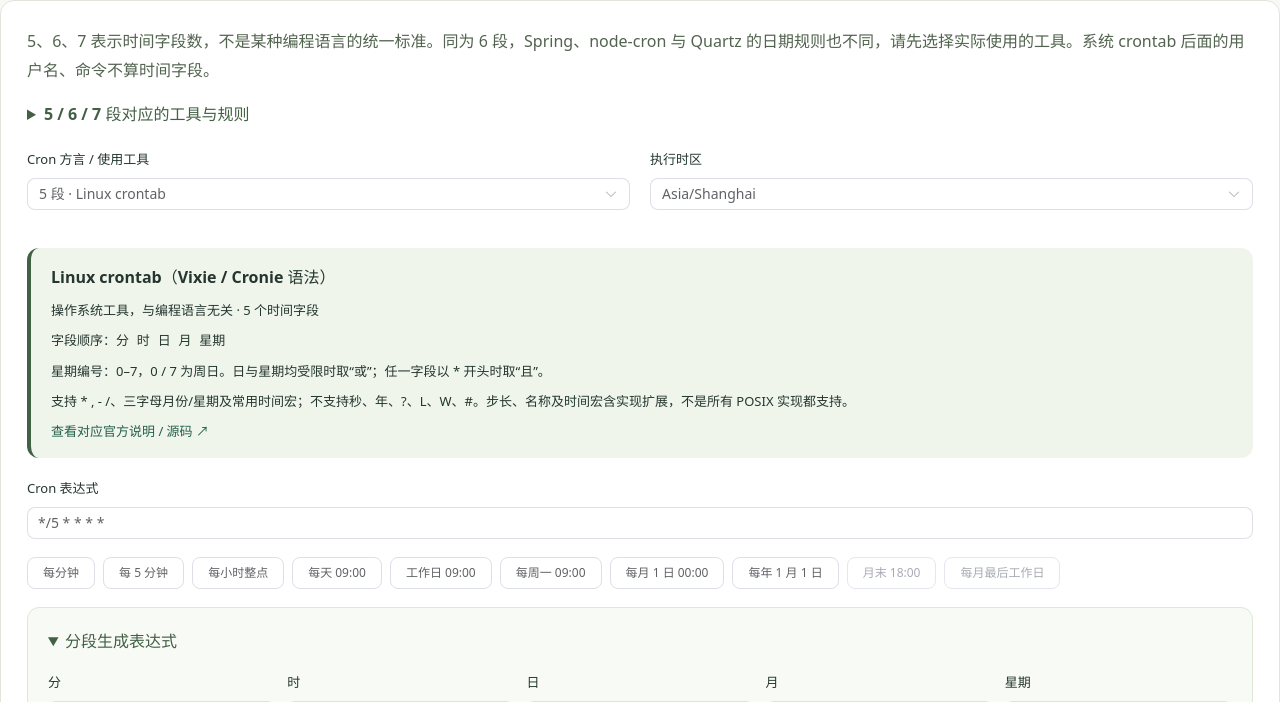
Test: 非法输入不启动 Worker，计算超时终止并反馈，常用表达式与生成器同步
Replace the text in the field named "Cron 表达式" with "中文" at (640, 523), box x1=38 y1=508 x2=1242 y2=538
(page scrolled)
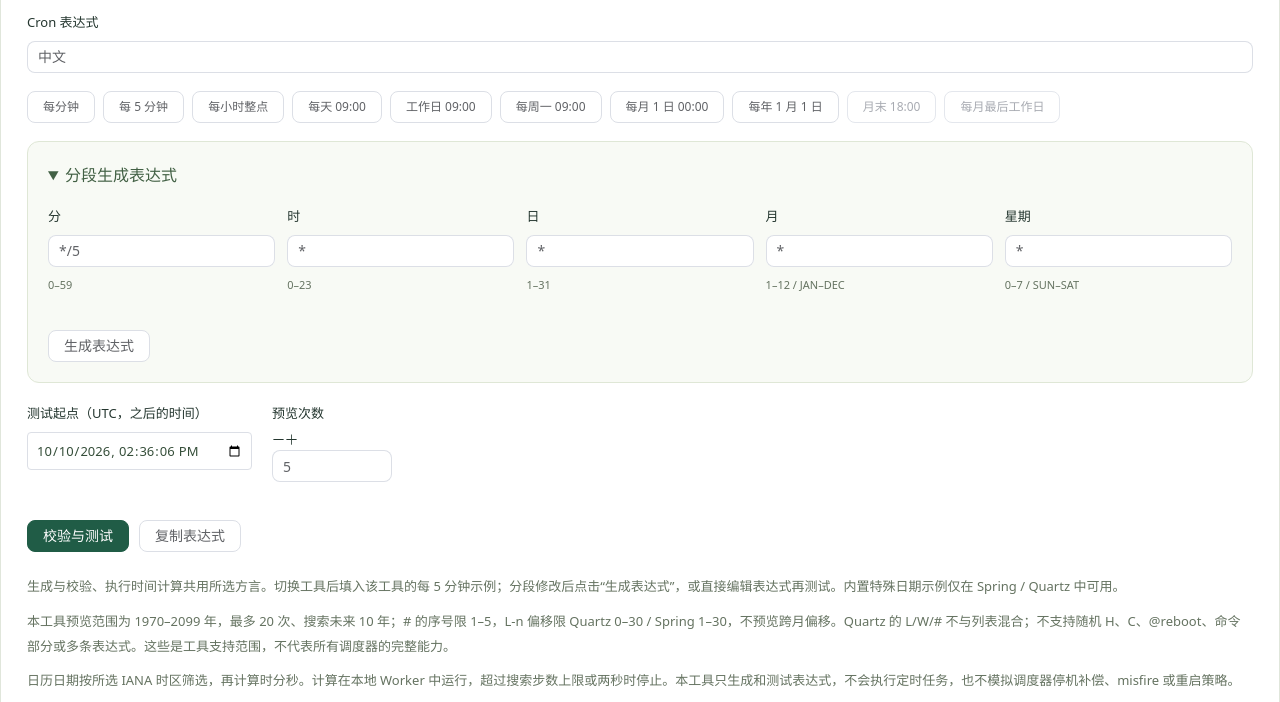
Click the button "校验与测试" at (78, 536), box x1=27 y1=520 x2=129 y2=552
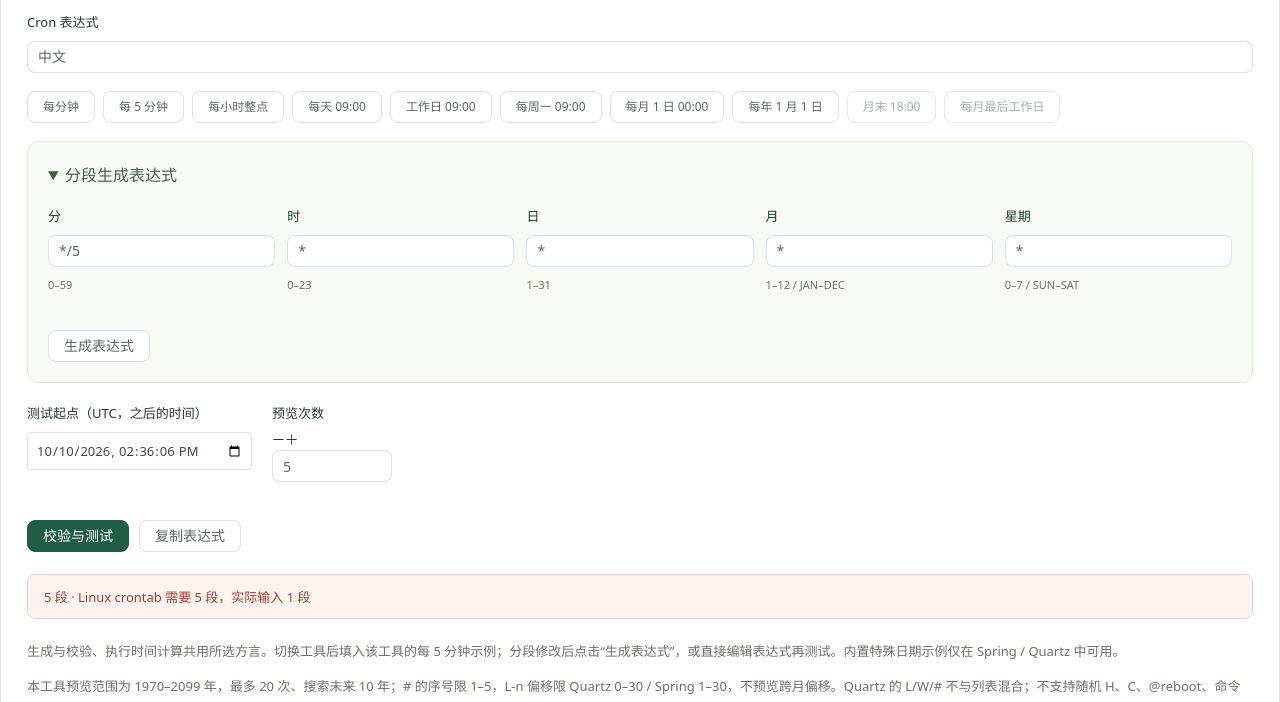
expect the message "5 段 · Linux crontab 需要 5 段，实际输入 1 段" is shown: met, box x1=27 y1=574 x2=1253 y2=619
Click the button "工作日 09:00" at (441, 107), box x1=390 y1=91 x2=492 y2=123
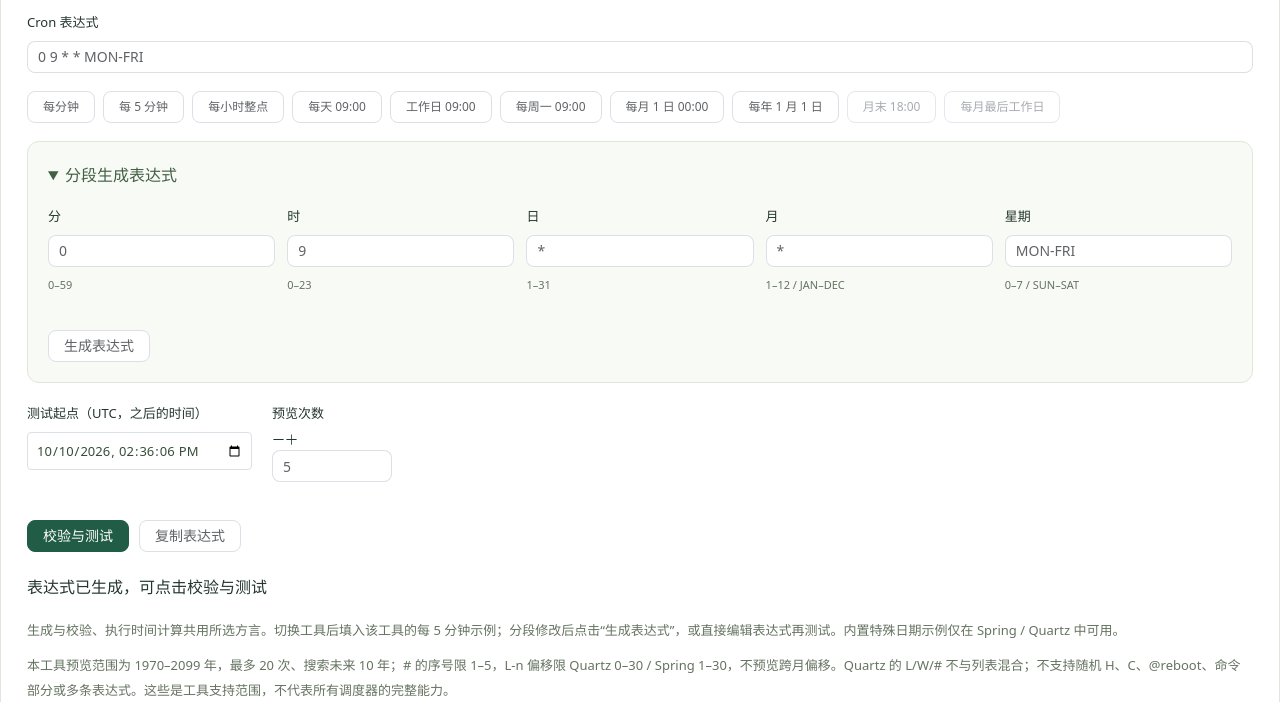
expect the field named "日字段" holds "*": met, box x1=537 y1=236 x2=743 y2=266
expect the field named "Cron 表达式" holds "0 9 * * MON-FRI": met, box x1=38 y1=42 x2=1242 y2=72
Click the button "校验与测试" at (78, 536), box x1=27 y1=520 x2=129 y2=552
Wait 2000 ms
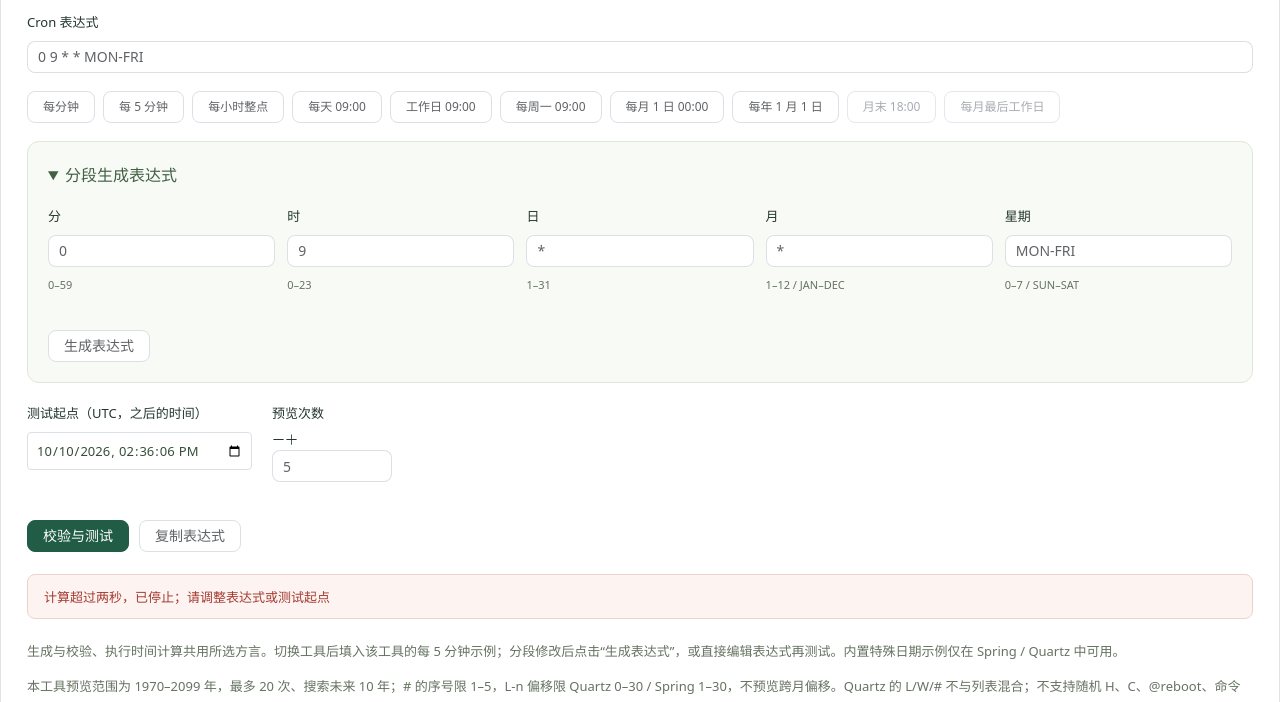
expect the message "计算超过两秒，已停止；请调整表达式或测试起点" is shown: met, box x1=27 y1=574 x2=1253 y2=619
